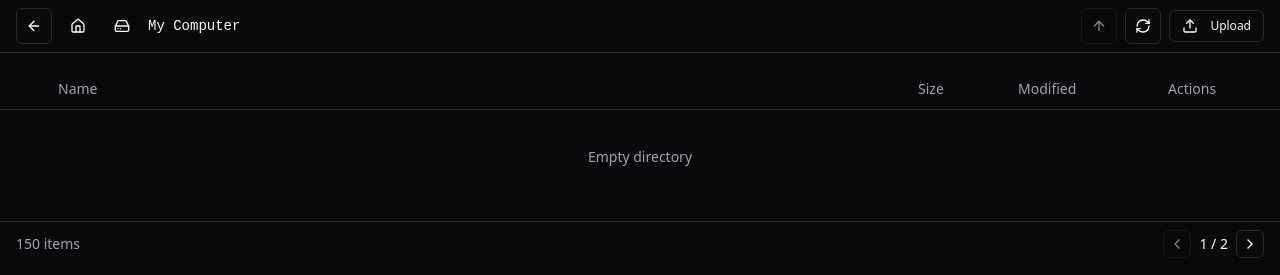
Test: FileList initial user directory › resets pagination and retries Home after the server previously fell back to root
Click the 8th button at (1250, 244), box [1236,230,1264,258]
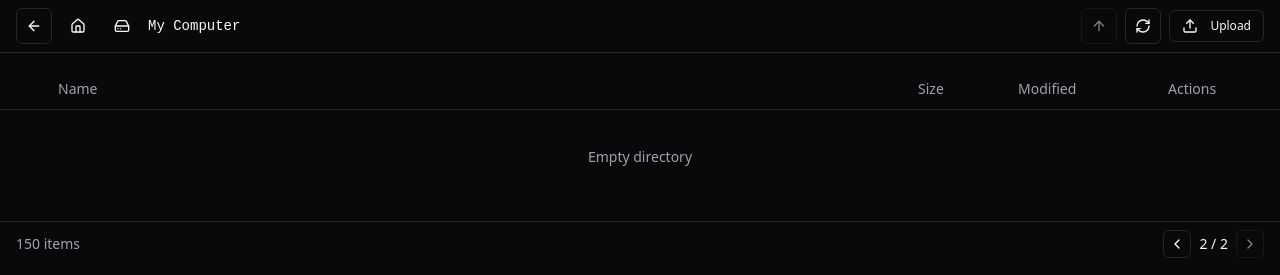
Click the button named "User home" at (78, 26), box [60,8,96,44]
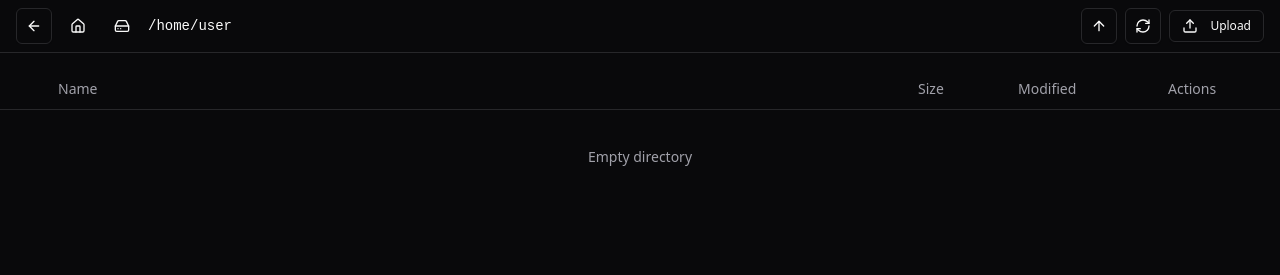
Expected: the link "/home/user" is shown, [148,16,232,36]
